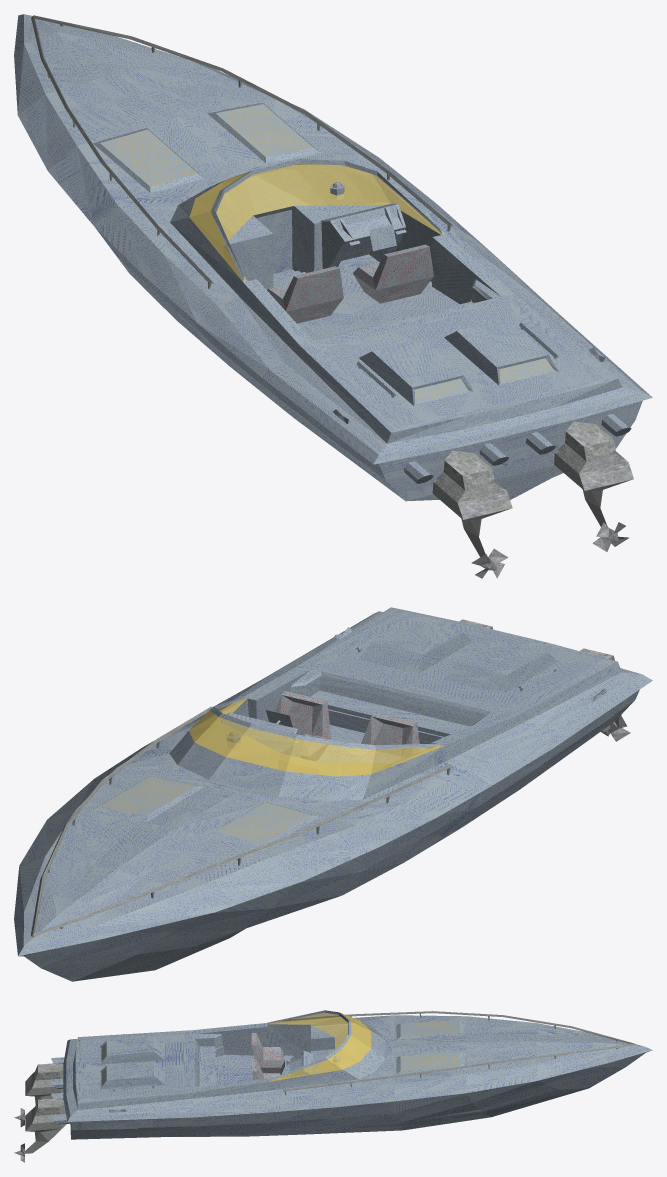
The picture shows the model from 3 angles, top to bottom: view 1: azimuth 30°, elevation 25°; view 2: azimuth 150°, elevation 25°; view 3: azimuth 270°, elevation 25°; orthographic projection. The views are drawn at different scales.
Parts seen in each view (by area): view 1: Mesh37 boat1 skp2AEA1 Model, Mesh14 Glass1 skp2AEA1 Model, Mesh38 boat1 skp2AEA1 Model, Mesh86 boat_rearf1 skp2AEA1 Model, Mesh81 boat_re_1_1 skp2AEA1 Model, Mesh44 boat1 skp2AEA1 Model, Mesh43 boat1 skp2AEA1 Model, Mesh2 Bar1 skp2AEA1 Model, Mesh19 Seats1 skp2AEA1 Model, Mesh15 Pits1 skp2AEA1 Model, Mesh20 Seats1 skp2AEA1 Model, Mesh16 Pits1 skp2AEA1 Model (+3 smaller); view 2: Mesh37 boat1 skp2AEA1 Model, Mesh14 Glass1 skp2AEA1 Model, Mesh44 boat1 skp2AEA1 Model, Mesh43 boat1 skp2AEA1 Model, Mesh2 Bar1 skp2AEA1 Model, Mesh19 Seats1 skp2AEA1 Model, Mesh15 Pits1 skp2AEA1 Model, Mesh20 Seats1 skp2AEA1 Model, Mesh16 Pits1 skp2AEA1 Model, Mesh38 boat1 skp2AEA1 Model, Mesh64 boat1 skp2AEA1 Model, Mesh60 boat1 skp2AEA1 Model (+1 smaller); view 3: Mesh37 boat1 skp2AEA1 Model, Mesh14 Glass1 skp2AEA1 Model, Mesh2 Bar1 skp2AEA1 Model, Mesh38 boat1 skp2AEA1 Model, Mesh44 boat1 skp2AEA1 Model, Mesh43 boat1 skp2AEA1 Model, Mesh81 boat_re_1_1 skp2AEA1 Model, Mesh86 boat_rearf1 skp2AEA1 Model, Mesh16 Pits1 skp2AEA1 Model, Mesh20 Seats1 skp2AEA1 Model, Mesh15 Pits1 skp2AEA1 Model, Mesh64 boat1 skp2AEA1 Model (+4 smaller).
Boxes of the visible parts, x1=… form: Mesh37 boat1 skp2AEA1 Model: x1=14, y1=14, x2=652, y2=501; Mesh14 Glass1 skp2AEA1 Model: x1=189, y1=163, x2=442, y2=281; Mesh38 boat1 skp2AEA1 Model: x1=297, y1=202, x2=459, y2=337; Mesh86 boat_rearf1 skp2AEA1 Model: x1=432, y1=450, x2=512, y2=556; Mesh81 boat_re_1_1 skp2AEA1 Model: x1=554, y1=421, x2=633, y2=526; Mesh44 boat1 skp2AEA1 Model: x1=359, y1=339, x2=473, y2=405; Mesh43 boat1 skp2AEA1 Model: x1=444, y1=318, x2=558, y2=385; Mesh2 Bar1 skp2AEA1 Model: x1=31, y1=15, x2=452, y2=283; Mesh19 Seats1 skp2AEA1 Model: x1=353, y1=244, x2=433, y2=303; Mesh15 Pits1 skp2AEA1 Model: x1=100, y1=129, x2=197, y2=186; Mesh20 Seats1 skp2AEA1 Model: x1=267, y1=266, x2=343, y2=323; Mesh16 Pits1 skp2AEA1 Model: x1=216, y1=104, x2=312, y2=157; Mesh37 boat1 skp2AEA1 Model: x1=14, y1=607, x2=652, y2=981; Mesh14 Glass1 skp2AEA1 Model: x1=189, y1=698, x2=444, y2=776; Mesh44 boat1 skp2AEA1 Model: x1=443, y1=640, x2=557, y2=694; Mesh43 boat1 skp2AEA1 Model: x1=358, y1=620, x2=472, y2=673; Mesh2 Bar1 skp2AEA1 Model: x1=30, y1=706, x2=452, y2=937; Mesh19 Seats1 skp2AEA1 Model: x1=275, y1=691, x2=331, y2=761; Mesh15 Pits1 skp2AEA1 Model: x1=215, y1=802, x2=312, y2=845; Mesh20 Seats1 skp2AEA1 Model: x1=351, y1=712, x2=420, y2=762; Mesh16 Pits1 skp2AEA1 Model: x1=100, y1=776, x2=196, y2=815; Mesh38 boat1 skp2AEA1 Model: x1=221, y1=712, x2=428, y2=762; Mesh64 boat1 skp2AEA1 Model: x1=210, y1=696, x2=444, y2=749; Mesh60 boat1 skp2AEA1 Model: x1=92, y1=776, x2=203, y2=822; Mesh37 boat1 skp2AEA1 Model: x1=63, y1=1015, x2=652, y2=1139; Mesh14 Glass1 skp2AEA1 Model: x1=267, y1=1012, x2=371, y2=1081; Mesh2 Bar1 skp2AEA1 Model: x1=282, y1=1011, x2=635, y2=1091; Mesh38 boat1 skp2AEA1 Model: x1=215, y1=1050, x2=312, y2=1085; Mesh44 boat1 skp2AEA1 Model: x1=100, y1=1036, x2=164, y2=1064; Mesh43 boat1 skp2AEA1 Model: x1=100, y1=1061, x2=164, y2=1089; Mesh81 boat_re_1_1 skp2AEA1 Model: x1=25, y1=1098, x2=66, y2=1153; Mesh86 boat_rearf1 skp2AEA1 Model: x1=25, y1=1063, x2=63, y2=1118; Mesh16 Pits1 skp2AEA1 Model: x1=400, y1=1052, x2=459, y2=1071; Mesh20 Seats1 skp2AEA1 Model: x1=251, y1=1033, x2=283, y2=1073; Mesh15 Pits1 skp2AEA1 Model: x1=400, y1=1020, x2=459, y2=1036; Mesh64 boat1 skp2AEA1 Model: x1=267, y1=1010, x2=351, y2=1081.
Size of the model in its own units: 1.99 by 1.28 by 6.32.
